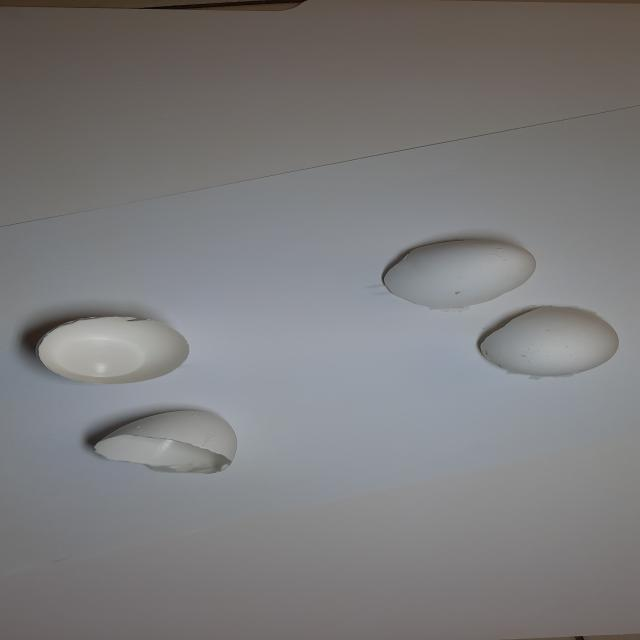egg shell: (12, 308, 230, 391), (63, 398, 262, 480), (367, 222, 542, 312), (469, 304, 631, 379)
